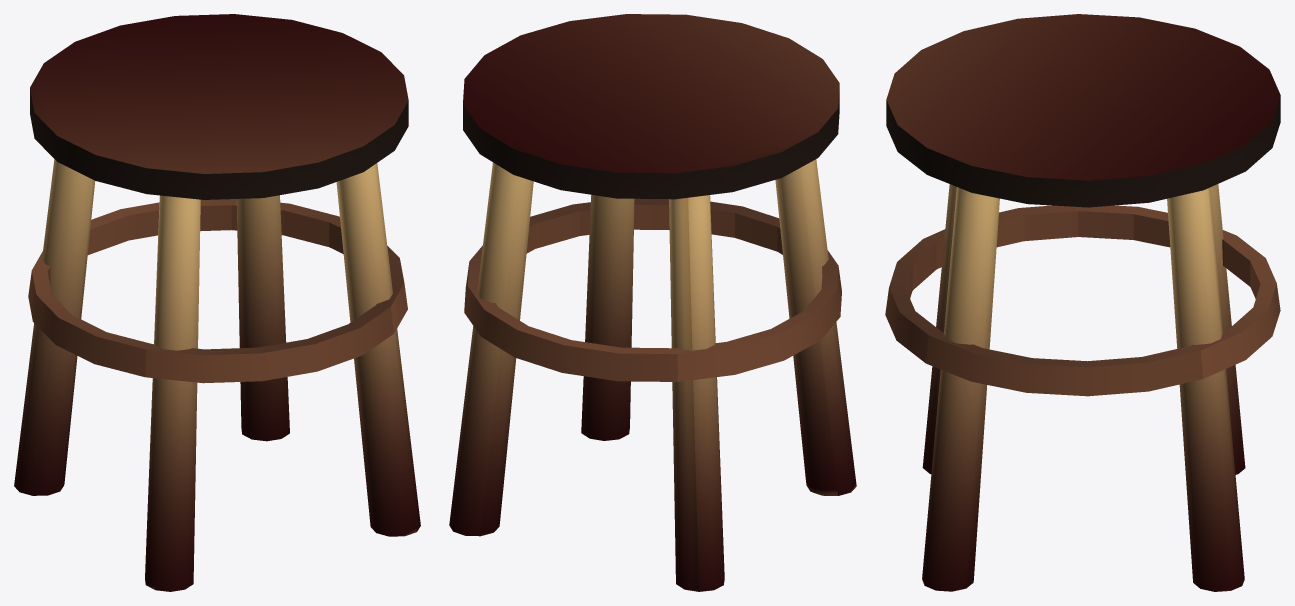
File: stool.fbx
3 renders of one model, left to right at view 1: azimuth 30°, elevation 25°; view 2: azimuth 150°, elevation 25°; view 3: azimuth 270°, elevation 25°, orthographic. The views are drawn at different scales.
Parts seen in each view (by area): view 1: stool; view 2: stool; view 3: stool.
Boxes of the visible parts, x1=… form: stool: x1=14, y1=14, x2=420, y2=591; stool: x1=449, y1=14, x2=856, y2=591; stool: x1=885, y1=14, x2=1280, y2=591.
Size of the model in its own units: 64.41 by 76.56 by 64.23.
